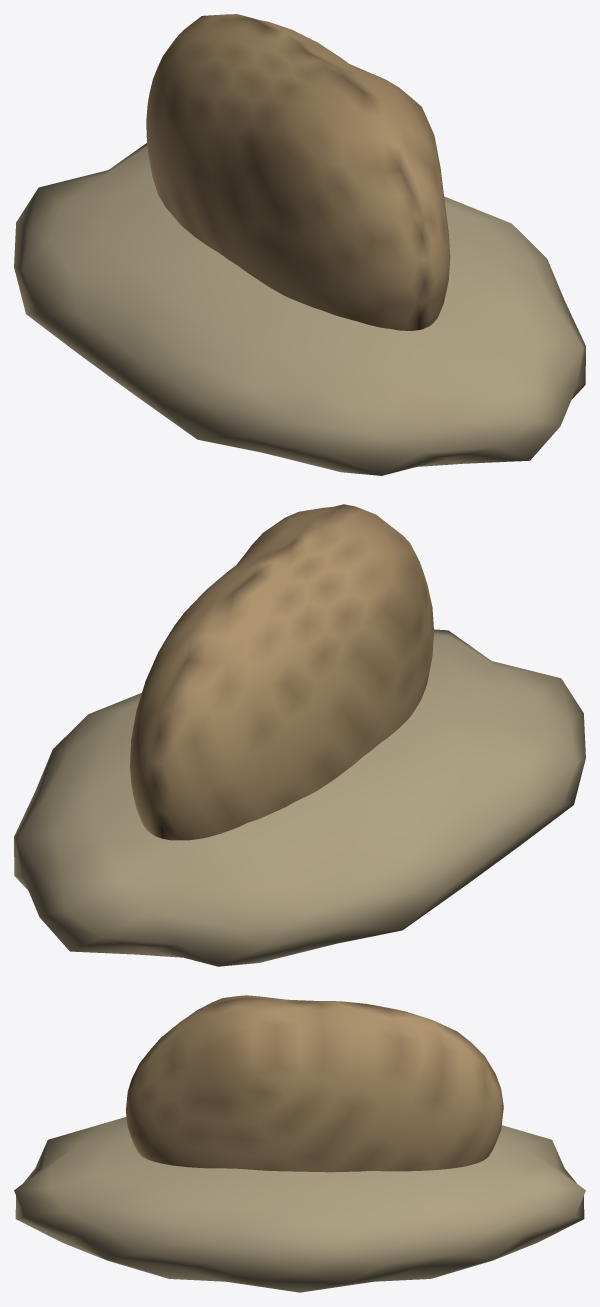
The model's file is Fordilla.fbx.
The picture shows the model from 3 angles, top to bottom: view 1: azimuth 30°, elevation 25°; view 2: azimuth 150°, elevation 25°; view 3: azimuth 270°, elevation 25°; orthographic projection. The views are drawn at different scales.
Visible parts, largest first — view 1: Fordilla; view 2: Fordilla; view 3: Fordilla.
Part boxes in pixels (left/top/right/bottom): Fordilla: left=14, top=14, right=585, bottom=475; Fordilla: left=14, top=504, right=585, bottom=966; Fordilla: left=14, top=995, right=585, bottom=1292.
Bounding box in the file's own units: 1.24 × 0.9134 × 1.91.
